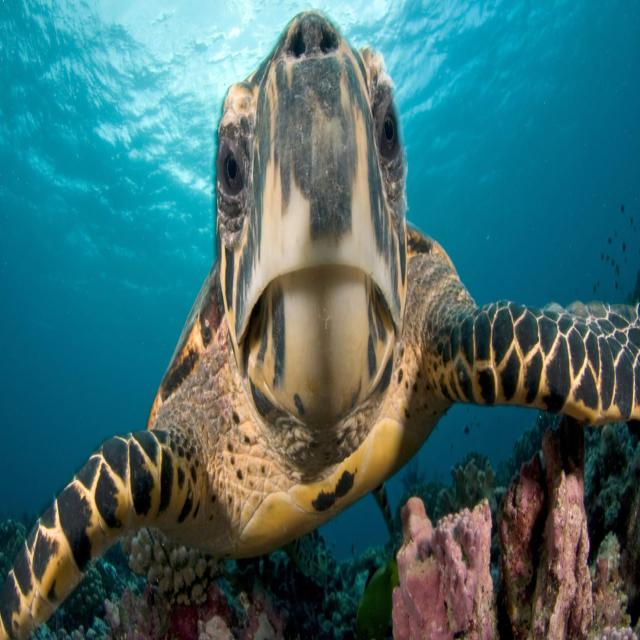turtle: (197, 45, 425, 465)
